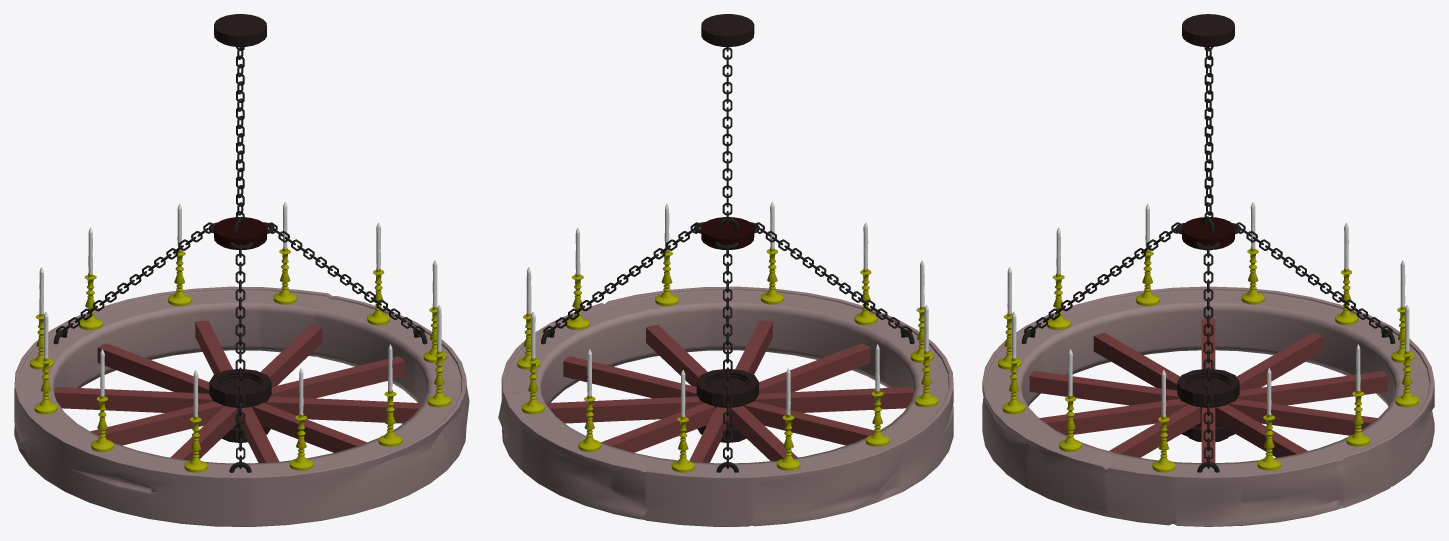
The model's file is chandelier4.fbx.
3 views of the same model, side by side, from view 1: azimuth 30°, elevation 25°; view 2: azimuth 150°, elevation 25°; view 3: azimuth 270°, elevation 25° (orthographic).
Visible parts, largest first — view 1: pPipe1, pCube334, pCube329, pCube330, pCube325, pCube333, pCylinder5, pCube328, pCube331, pCylinder8, pCube326, pCylinder7 (+12 smaller); view 2: pPipe1, pCube326, pCube331, pCube330, pCube325, pCube327, pCylinder5, pCube332, pCube329, pCylinder8, pCube334, pCylinder7 (+12 smaller); view 3: pPipe1, pCube327, pCube333, pCube328, pCube332, pCylinder5, pCube334, pCube326, pCube329, pCube331, pCylinder8, pCylinder7 (+12 smaller).
Part boxes in pixels (box(x1,y1,x2,y2)): pPipe1: box(14, 286, 469, 526); pCube334: box(54, 387, 212, 412); pCube329: box(264, 396, 422, 423); pCube330: box(271, 356, 404, 398); pCube325: box(90, 401, 223, 445); pCube333: box(97, 343, 209, 393); pCylinder5: box(209, 369, 271, 442); pCube328: box(253, 403, 366, 452); pCube331: box(260, 325, 322, 386); pCylinder8: box(214, 14, 266, 46); pCube326: box(170, 406, 237, 460); pCylinder7: box(214, 217, 266, 249); pPipe1: box(498, 286, 953, 526); pCube326: box(755, 387, 913, 412); pCube331: box(545, 396, 704, 423); pCube330: box(563, 356, 697, 398); pCube325: box(744, 401, 874, 445); pCube327: box(759, 343, 870, 393); pCylinder5: box(696, 369, 758, 442); pCube332: box(601, 403, 714, 452); pCube329: box(646, 325, 707, 386); pCylinder8: box(701, 14, 754, 46); pCube334: box(730, 406, 797, 461); pCylinder7: box(701, 217, 754, 249); pPipe1: box(982, 286, 1434, 526); pCube327: box(1029, 371, 1179, 405); pCube333: box(1237, 371, 1387, 405); pCube328: box(1039, 399, 1188, 435); pCube332: box(1228, 399, 1377, 435); pCylinder5: box(1177, 369, 1239, 441); pCube334: box(1237, 332, 1323, 390); pCube326: box(1093, 332, 1179, 390); pCube329: box(1109, 404, 1200, 457); pCube331: box(1216, 404, 1307, 457); pCylinder8: box(1182, 14, 1234, 47); pCylinder7: box(1182, 217, 1234, 249).
Bounding box in the file's own units: 204 × 203 × 204.
